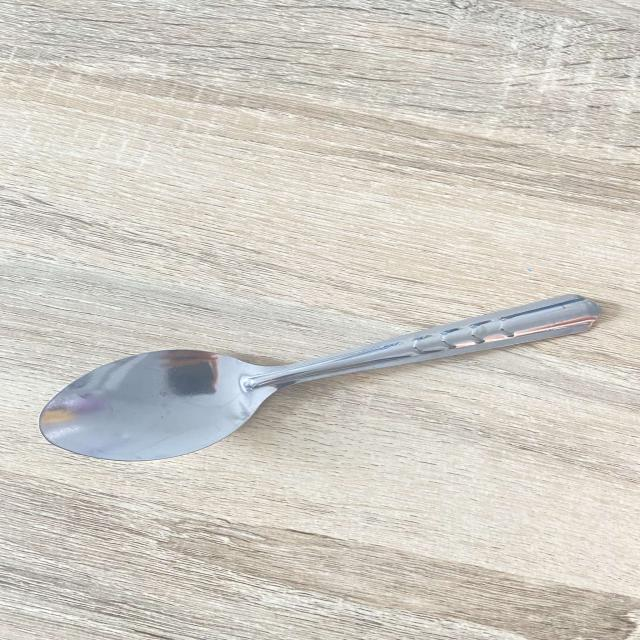spoon: (38, 276, 616, 478)
